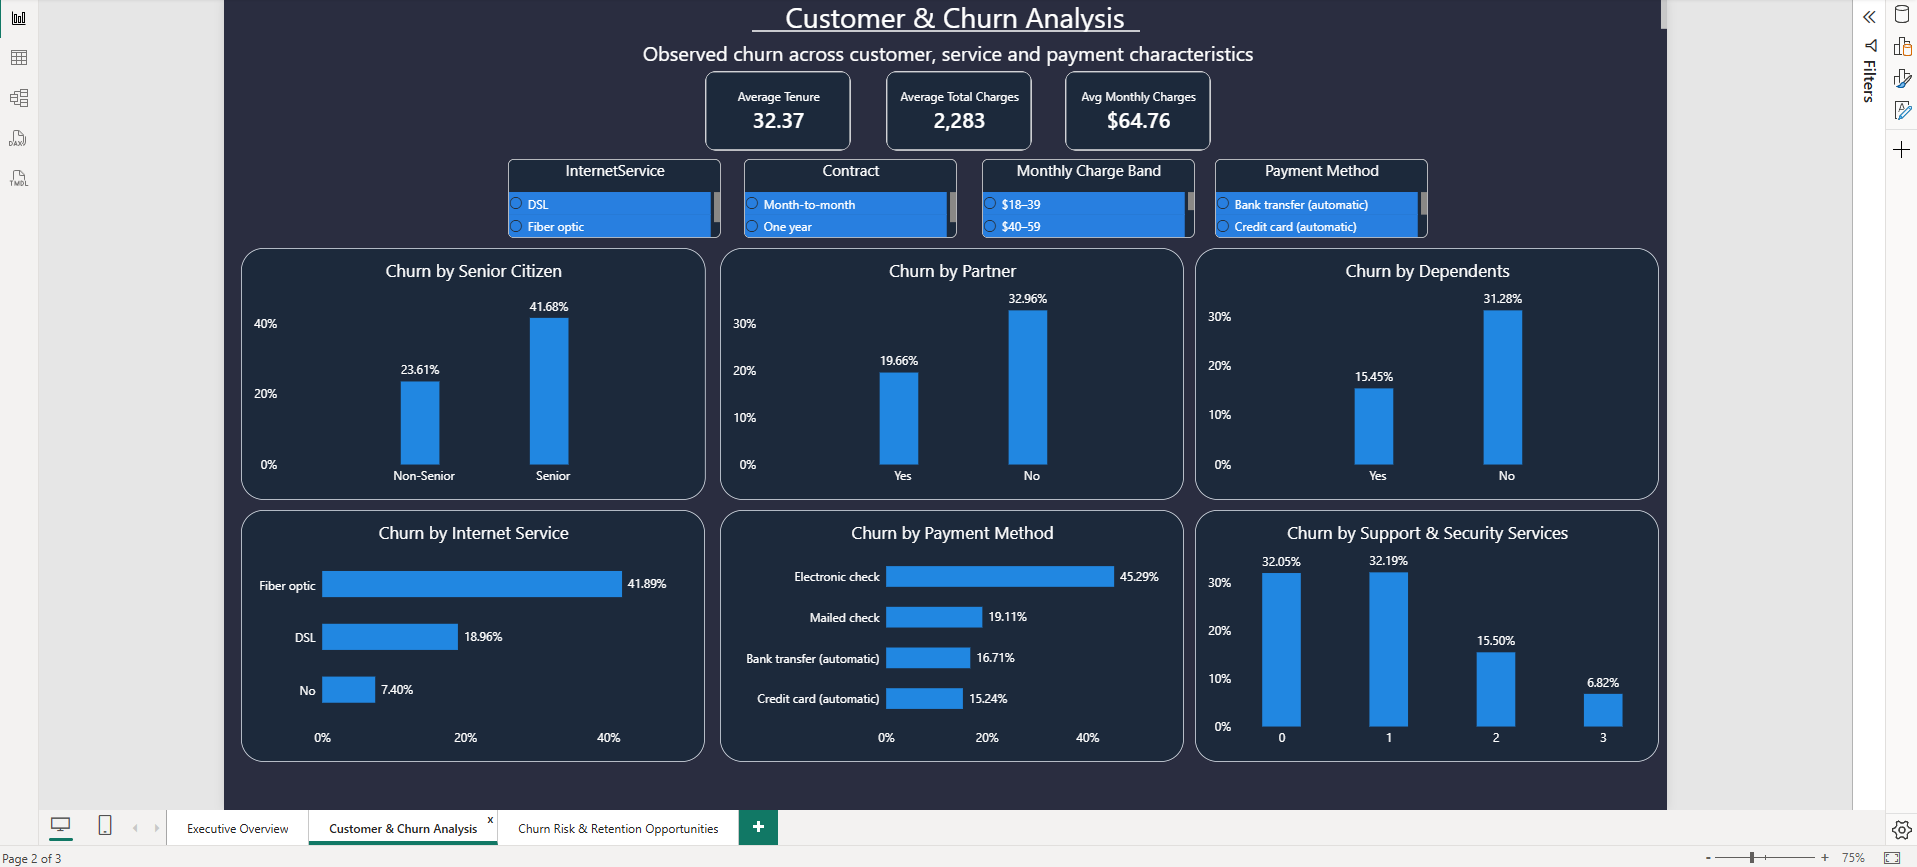

What the dashboard file says about the page in this screenshot:
{"tool":"powerbi","page":{"name":"Customer & Churn Analysis","canvas":[1920,1080],"ordinal":1},"visuals":[{"type":"cardVisual","fields":{"Data":["Measures_.Average Tenure"]},"box":[640,97.5,194.2,106.4],"z":0},{"type":"cardVisual","fields":{"Data":["Measures_.Average Total Charges"]},"box":[880,97.5,194.2,106.4],"z":1000},{"type":"cardVisual","fields":{"Data":["Measures_.Average Monthly Charges"]},"box":[1118.8,97.5,194.2,106.4],"z":2000},{"type":"clusteredColumnChart","title":"Churn by Senior Citizen","fields":{"Category":["Telco-Customer-Churn.Senior Citizen Label"],"Y":["Measures_.Churn Rate"]},"box":[22.5,332.5,617.5,335],"z":3000},{"type":"clusteredColumnChart","title":"Churn by Partner","fields":{"Category":["Telco-Customer-Churn.Partner"],"Y":["Measures_.Churn Rate"]},"box":[660,332.5,617,335],"z":4000},{"type":"clusteredColumnChart","title":"Churn by Dependents","fields":{"Category":["Telco-Customer-Churn.Dependents"],"Y":["Measures_.Churn Rate"]},"box":[1291.2,332.5,617,335],"z":5000},{"type":"barChart","title":"Churn by Internet Service","fields":{"Category":["Telco-Customer-Churn.InternetService"],"Y":["Measures_.Churn Rate"]},"box":[22.5,681.2,617,335],"z":6000},{"type":"barChart","title":"Churn by Payment Method","fields":{"Category":["Telco-Customer-Churn.PaymentMethod"],"Y":["Measures_.Churn Rate"]},"box":[660,681.2,617,335],"z":7000},{"type":"clusteredColumnChart","title":"Churn by Support & Security Services","fields":{"Category":["Telco-Customer-Churn.Support Security Services"],"Y":["Measures_.Churn Rate"]},"box":[1291.2,681.2,617,335],"z":8000},{"type":"textbox","box":[33.8,0,1886.2,45],"z":9000},{"type":"shape","box":[702.3,22.6,516.1,42.6],"z":10000},{"type":"textbox","box":[231.2,55,1463.8,42.5],"z":11000},{"type":"listSlicer","fields":{"Values":["Telco-Customer-Churn.Contract"]},"box":[691.2,213.8,283,105],"z":12000},{"type":"listSlicer","fields":{"Values":["Telco-Customer-Churn.Monthly Charge Band"]},"box":[1008.8,213.8,283,105],"z":13000},{"type":"listSlicer","fields":{"Values":["Telco-Customer-Churn.InternetService"]},"box":[377.5,213.8,283,105],"z":14000},{"type":"listSlicer","title":"Payment Method","fields":{"Values":["Telco-Customer-Churn.PaymentMethod"]},"box":[1317.5,213.8,283,105],"z":15000}]}

Visuals, with their boxes on the page's 1920x1080 design canvas (x1, y1, x2, y2). These are canvas units, not pixel positions in the 1917x867 screenshot, which may show the page scaled, cropped or inside an application window:
cardVisual - Measures_.Average Tenure: left=640, top=98, right=834, bottom=204
cardVisual - Measures_.Average Total Charges: left=880, top=98, right=1074, bottom=204
cardVisual - Measures_.Average Monthly Charges: left=1119, top=98, right=1313, bottom=204
"Churn by Senior Citizen" clusteredColumnChart: left=22, top=332, right=640, bottom=668
"Churn by Partner" clusteredColumnChart: left=660, top=332, right=1277, bottom=668
"Churn by Dependents" clusteredColumnChart: left=1291, top=332, right=1908, bottom=668
"Churn by Internet Service" barChart: left=22, top=681, right=640, bottom=1016
"Churn by Payment Method" barChart: left=660, top=681, right=1277, bottom=1016
"Churn by Support & Security Services" clusteredColumnChart: left=1291, top=681, right=1908, bottom=1016
textbox: left=34, top=0, right=1920, bottom=45
shape: left=702, top=23, right=1218, bottom=65
textbox: left=231, top=55, right=1695, bottom=98
listSlicer - Telco-Customer-Churn.Contract: left=691, top=214, right=974, bottom=319
listSlicer - Telco-Customer-Churn.Monthly Charge Band: left=1009, top=214, right=1292, bottom=319
listSlicer - Telco-Customer-Churn.InternetService: left=378, top=214, right=660, bottom=319
"Payment Method" listSlicer: left=1318, top=214, right=1600, bottom=319
